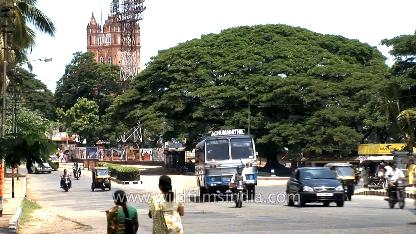auto-rikshaw: (326, 162, 356, 198), (90, 164, 114, 194)
bike: (384, 160, 408, 208), (228, 162, 249, 208), (61, 168, 74, 194), (70, 160, 84, 181)
bus: (194, 128, 262, 202)
car: (283, 167, 345, 211)
